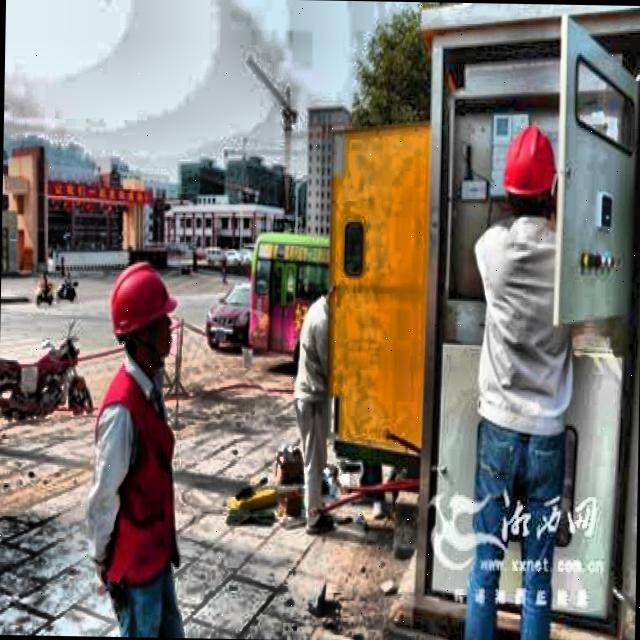helmet: (101, 250, 184, 380), (494, 116, 558, 229)
